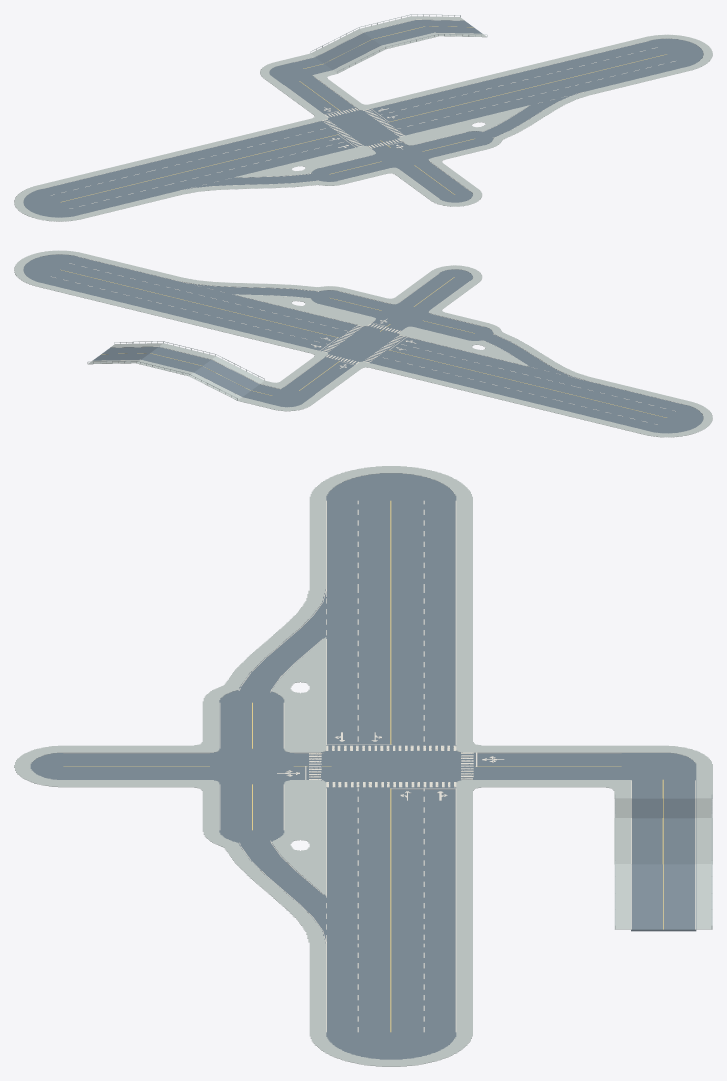
File: network-w78-s39.glb
The picture shows the model from 3 angles, top to bottom: view 1: azimuth 30°, elevation 25°; view 2: azimuth 150°, elevation 25°; view 3: azimuth 270°, elevation 25°; orthographic projection. The views are drawn at different scales.
Visible parts, largest first — view 1: Road_surface, Sidewalks, Lane_markings, Ramp_surface, Crosswalks, Bridge_railings; view 2: Road_surface, Sidewalks, Lane_markings, Ramp_surface, Crosswalks, Bridge_railings; view 3: Road_surface, Sidewalks, Ramp_surface, Lane_markings, Crosswalks.
Part boxes in pixels (x1=…): Road_surface: x1=23, y1=20, x2=703, y2=217; Sidewalks: x1=14, y1=16, x2=712, y2=221; Lane_markings: x1=44, y1=19, x2=675, y2=208; Ramp_surface: x1=315, y1=20, x2=481, y2=69; Crosswalks: x1=322, y1=108, x2=404, y2=148; Bridge_railings: x1=310, y1=14, x2=487, y2=72; Road_surface: x1=23, y1=254, x2=703, y2=433; Sidewalks: x1=14, y1=250, x2=712, y2=437; Lane_markings: x1=51, y1=256, x2=684, y2=424; Ramp_surface: x1=93, y1=347, x2=259, y2=396; Crosswalks: x1=322, y1=323, x2=404, y2=364; Bridge_railings: x1=87, y1=341, x2=264, y2=400; Road_surface: x1=30, y1=473, x2=696, y2=1059; Sidewalks: x1=14, y1=466, x2=712, y2=1066; Ramp_surface: x1=631, y1=798, x2=696, y2=931; Lane_markings: x1=63, y1=500, x2=695, y2=1032; Crosswalks: x1=309, y1=745, x2=473, y2=787.
Size of the model in its own units: 339 by 7.51 by 167.
